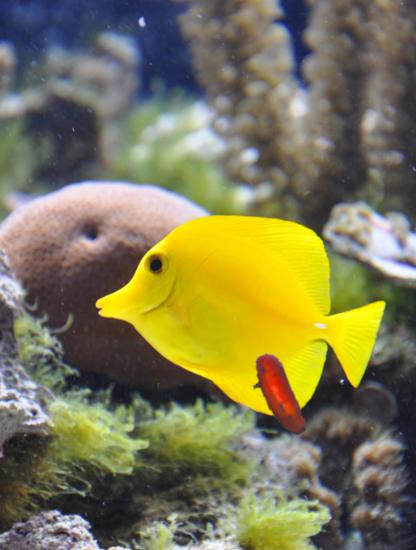Banana: (231, 352, 321, 442)
